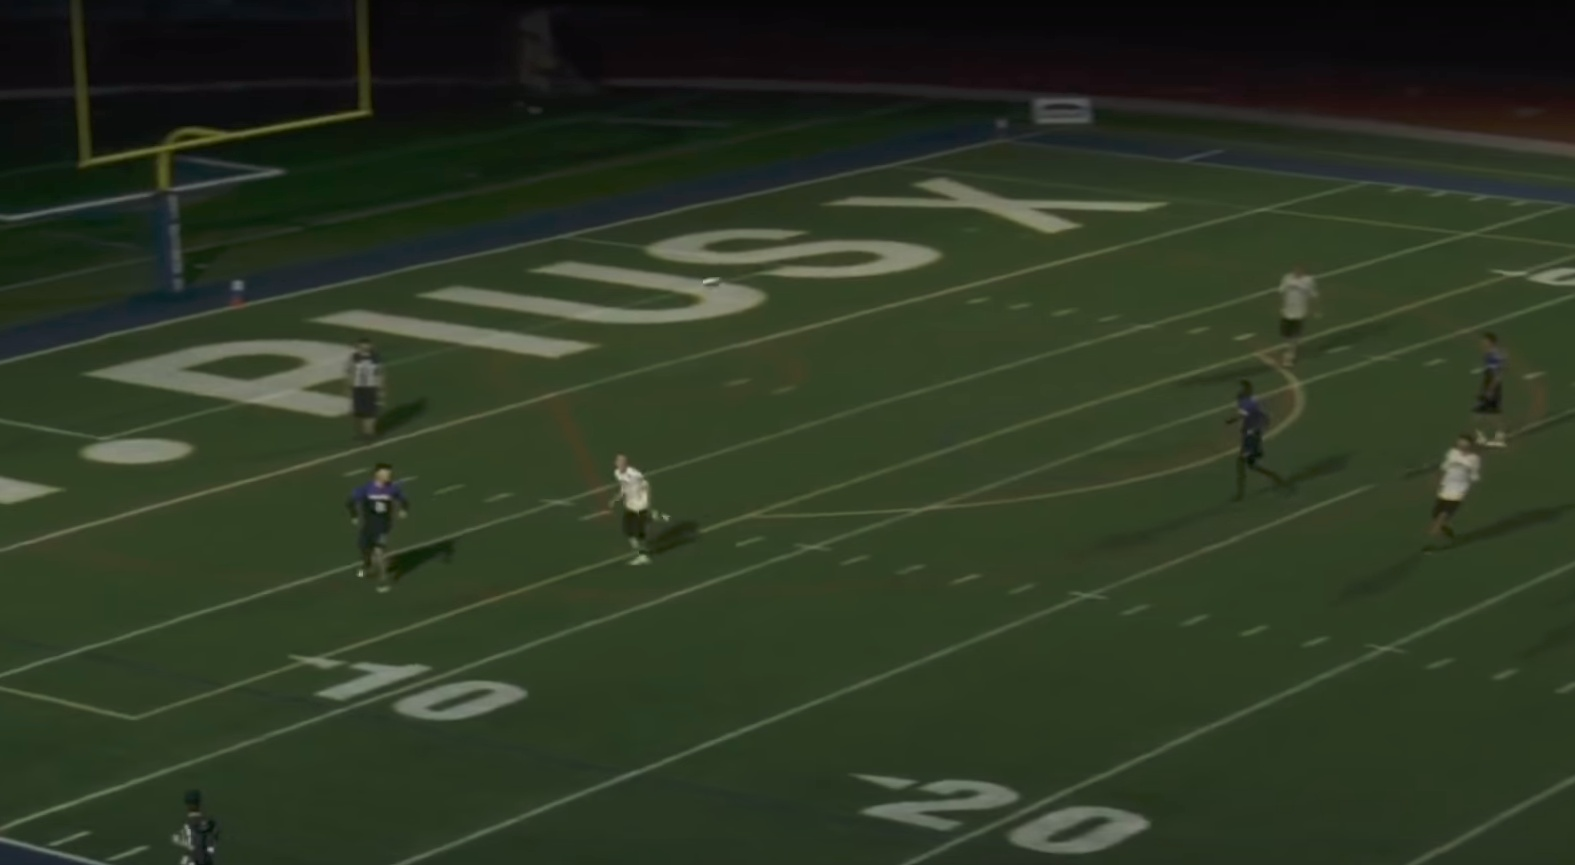frisbee: (702, 276, 721, 285)
